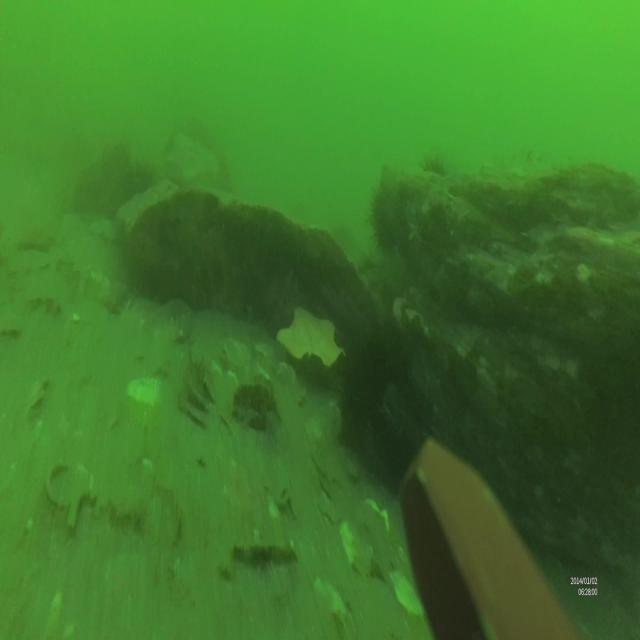echinus: (364, 180, 402, 250), (420, 150, 449, 192)
scallop: (389, 568, 428, 622), (128, 375, 168, 415)
starfish: (276, 300, 346, 381)
